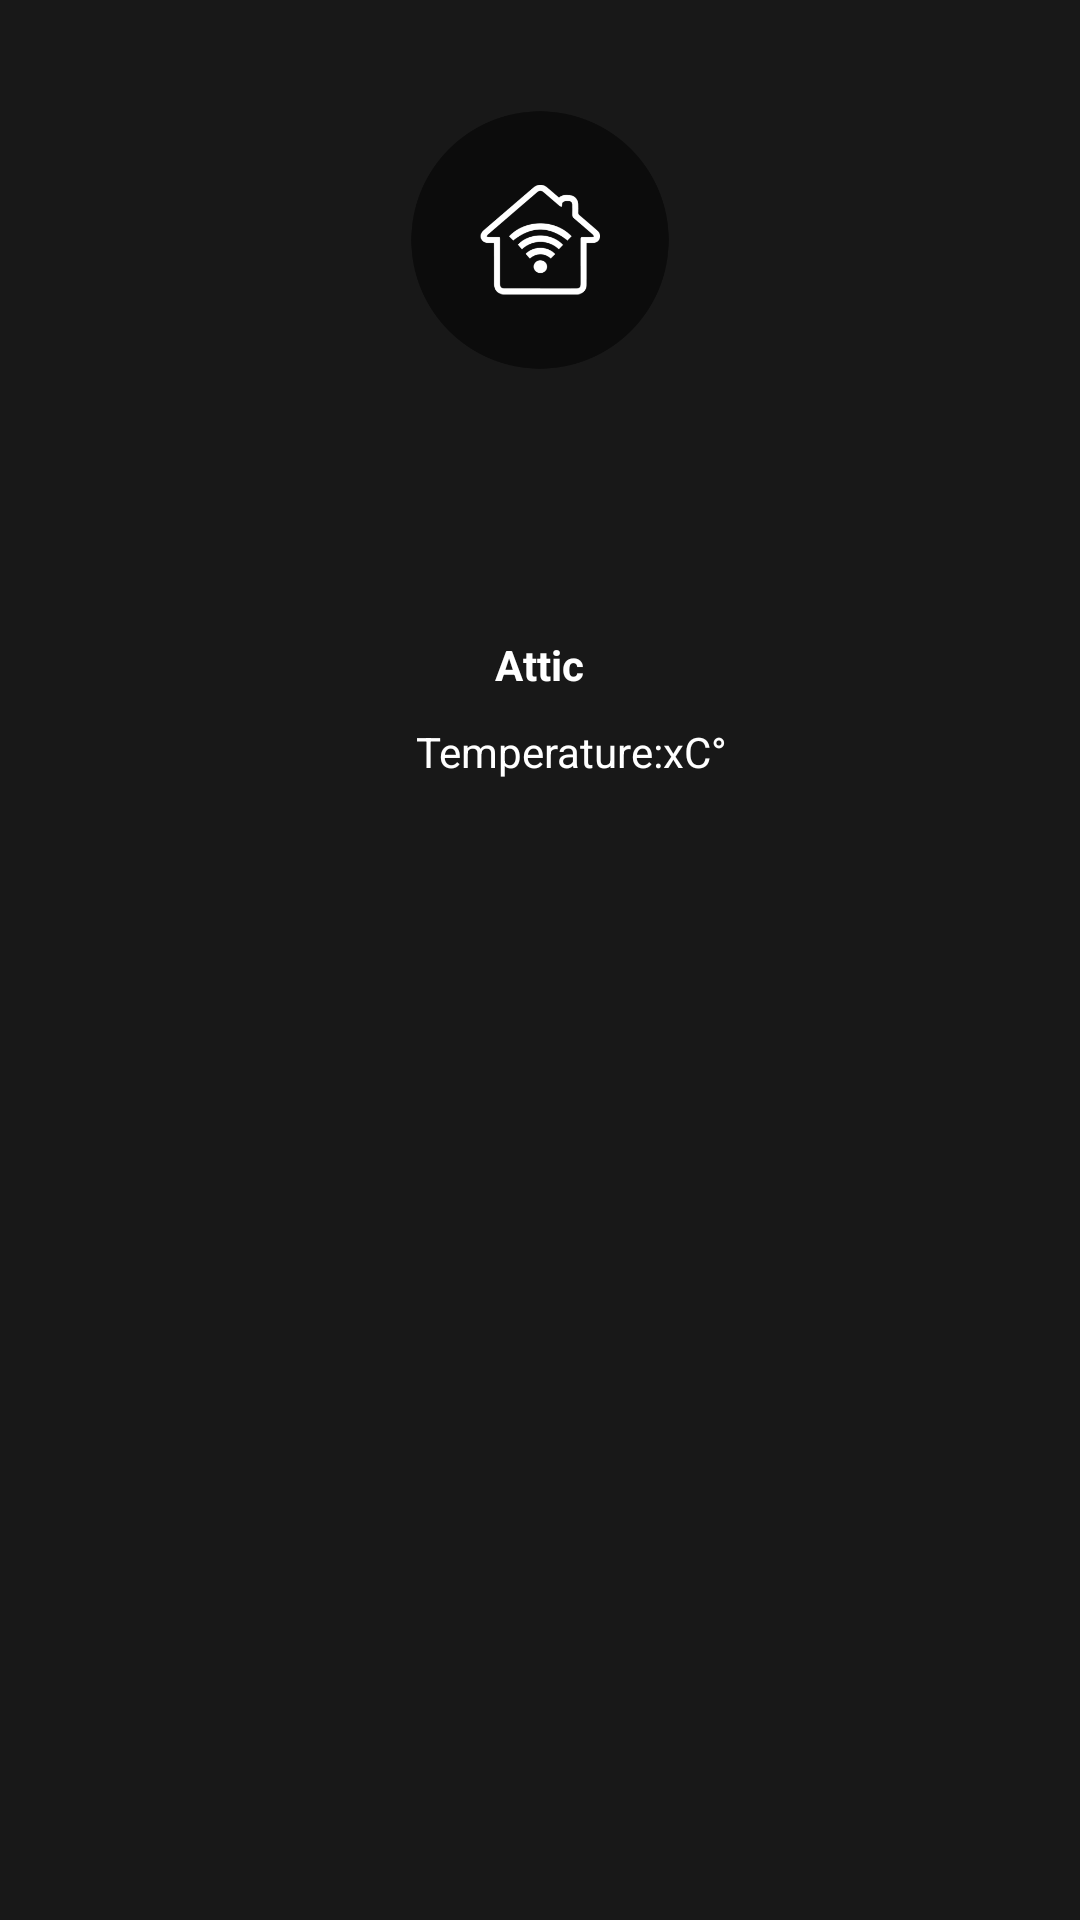

Named icons in this screenshot (1080x1920) and their bounding boxes, (x1=x1, y1=y1, x2=x2, y2=y2):
smarthome hp: (x1=411, y1=111, x2=669, y2=369)
